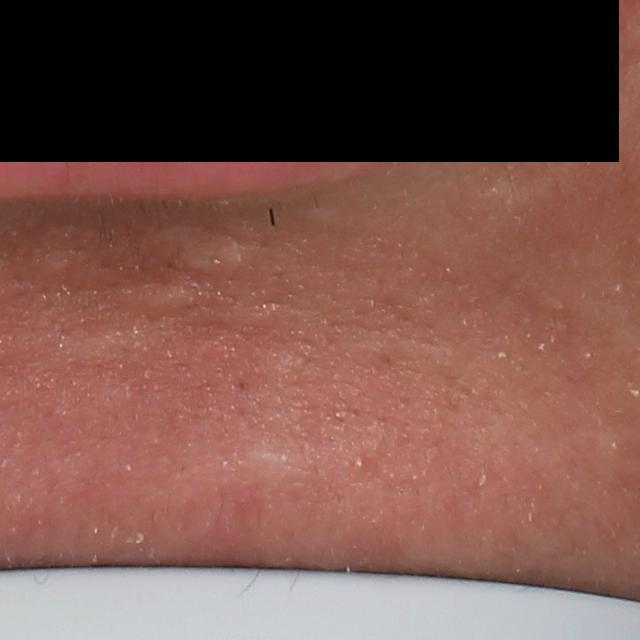hypertrophic_scar: (139, 226, 265, 271), (118, 280, 198, 316), (238, 445, 301, 479), (299, 205, 344, 224)
